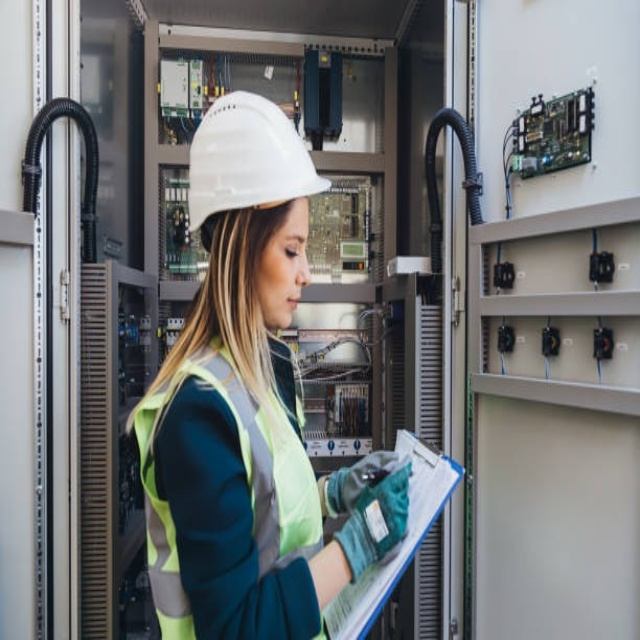Guantes: (332, 458, 412, 590), (324, 455, 403, 518)
Sin_gafas: (268, 224, 314, 265)
Sin_mascara: (269, 285, 305, 326)
